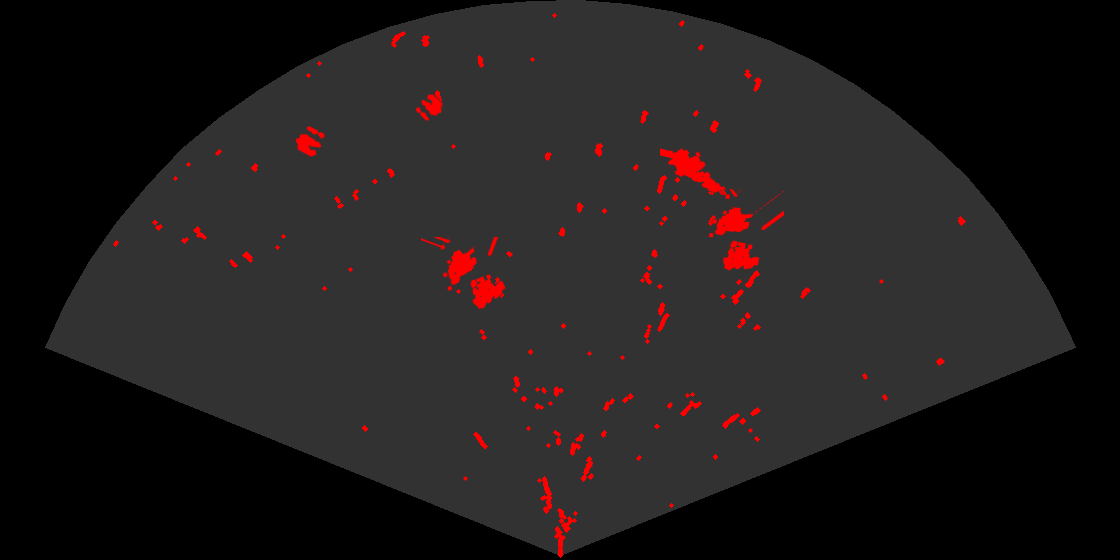ball: (294, 125, 327, 158), (414, 92, 444, 123)
cage: (707, 189, 784, 272), (421, 237, 507, 310)
frogman: (660, 147, 728, 197)
